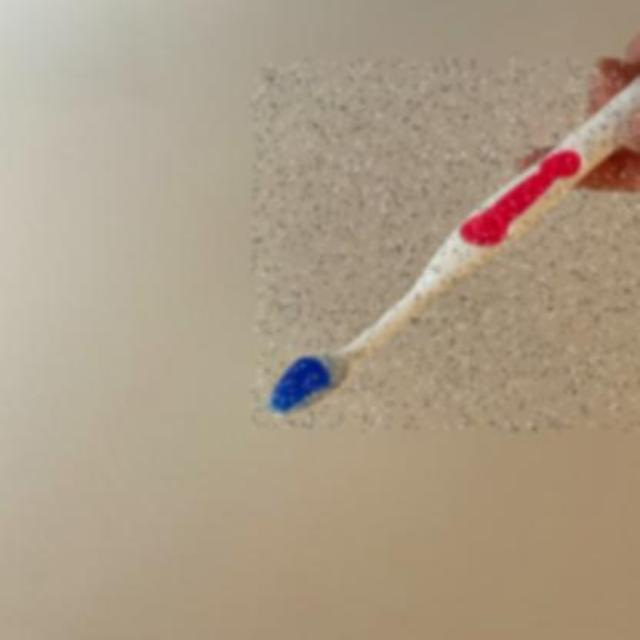toothbrush: (252, 60, 640, 430)
